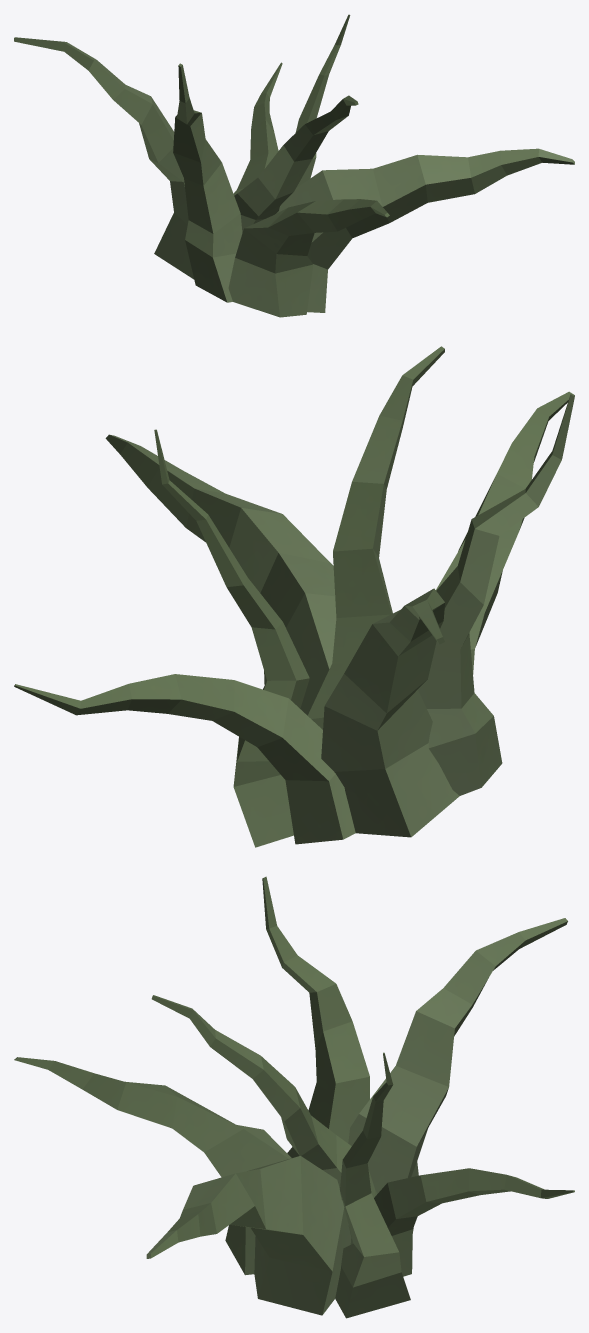
File: grass_green_1.glb
The picture shows the model from 3 angles, top to bottom: view 1: azimuth 30°, elevation 25°; view 2: azimuth 150°, elevation 25°; view 3: azimuth 270°, elevation 25°; orthographic projection. The views are drawn at different scales.
Parts seen in each view (by area): view 1: grass_green_1; view 2: grass_green_1; view 3: grass_green_1.
Part boxes in pixels (box(x1,y1,x2,y2)): grass_green_1: box(14, 14, 574, 317); grass_green_1: box(14, 346, 574, 847); grass_green_1: box(14, 876, 574, 1318).
Bounding box in the file's own units: 0.5788 × 0.4094 × 0.5994.
1 material, 1 textured.
